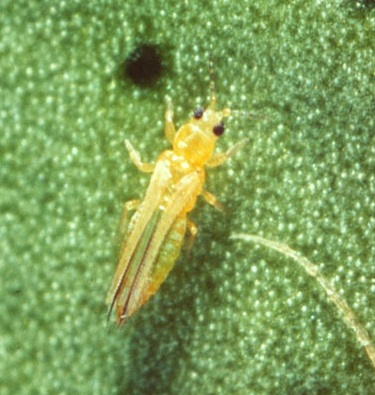Thrips: (93, 84, 240, 330)
